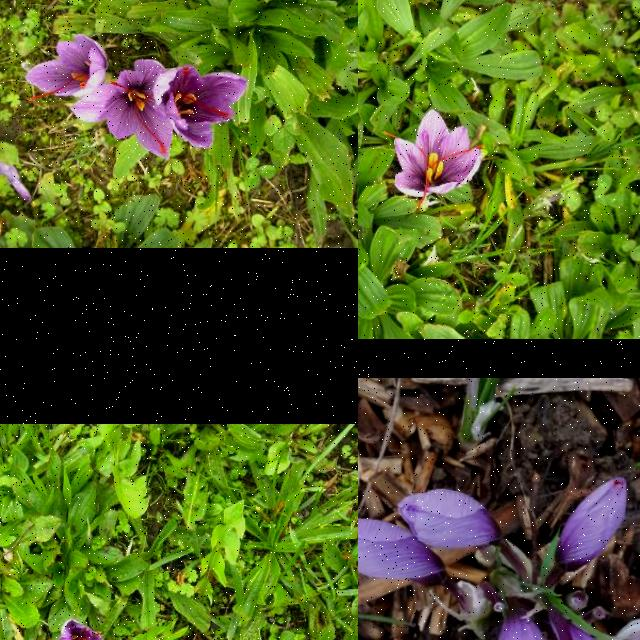flower: (71, 59, 173, 161), (394, 110, 486, 206), (153, 66, 249, 148), (552, 479, 628, 573), (398, 488, 506, 548), (358, 520, 450, 588), (26, 35, 109, 103), (496, 613, 552, 640), (59, 620, 104, 640)
